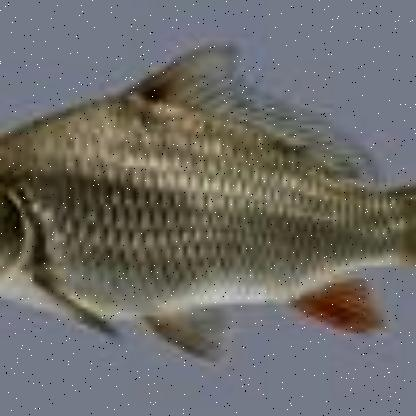ikan-mas: (0, 46, 416, 348)
